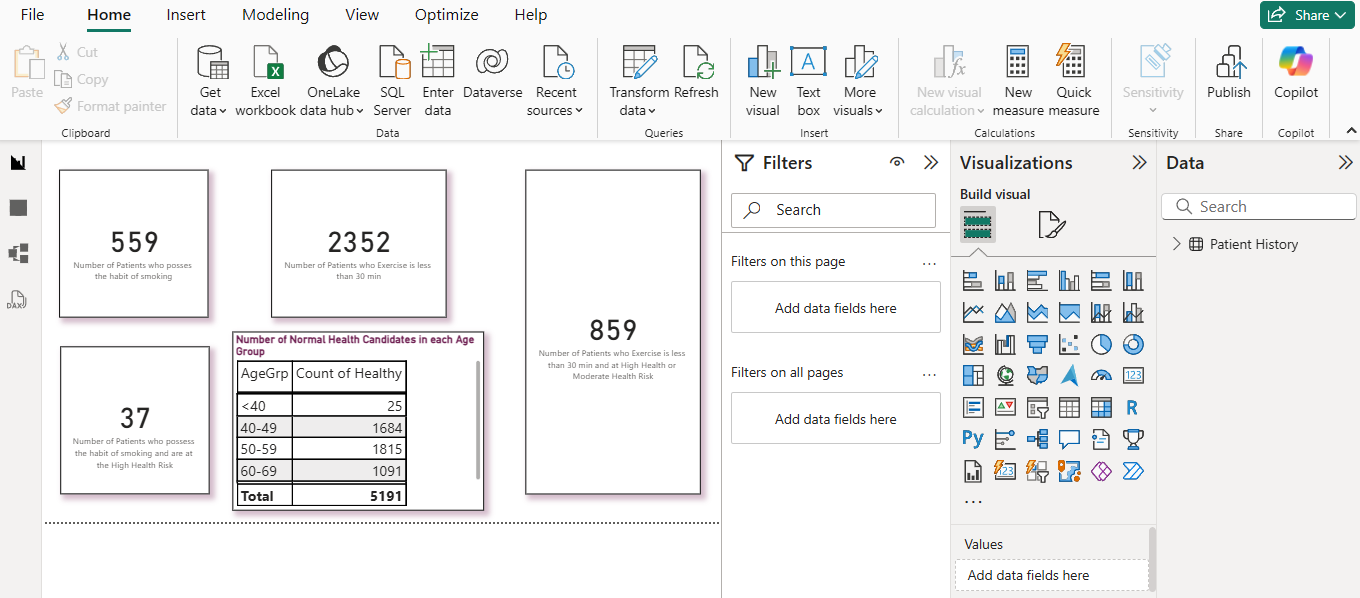

The page's visual inventory and layout, read from the dashboard file:
{"tool":"powerbi","page":{"name":"Page 5","canvas":[1280,720],"ordinal":2},"visuals":[{"type":"tableEx","title":"Number of Normal Health Candidates in each Age Group","fields":{"Values":["Patient History.AgeGrp","Patient History.Healthy"]},"box":[358.9,361,474.9,337.4],"z":2},{"type":"card","fields":{"Values":["Patient History.Total Number of patient’s diagnosis"]},"box":[32.2,55.9,281.5,279.4],"z":3},{"type":"card","fields":{"Values":["Patient History.Total Number of patient’s diagnosis"]},"box":[34.4,389,281.5,279.4],"z":4},{"type":"card","fields":{"Values":["Patient History.Total Number of patient’s diagnosis"]},"box":[431.9,55.9,330.9,279.4],"z":5},{"type":"card","fields":{"Values":["Patient History.Total Number of patient’s diagnosis"]},"box":[911.2,55.9,330.9,612.4],"z":6}]}

Visuals, with their boxes on the page's 1280x720 design canvas (x1, y1, x2, y2). These are canvas units, not pixel positions in the 1360x598 screenshot, which may show the page scaled, cropped or inside an application window:
"Number of Normal Health Candidates in each Age Group" tableEx: select_region(359, 361, 834, 698)
card - Patient History.Total Number of patient’s diagnosis: select_region(32, 56, 314, 335)
card - Patient History.Total Number of patient’s diagnosis: select_region(34, 389, 316, 668)
card - Patient History.Total Number of patient’s diagnosis: select_region(432, 56, 763, 335)
card - Patient History.Total Number of patient’s diagnosis: select_region(911, 56, 1242, 668)
